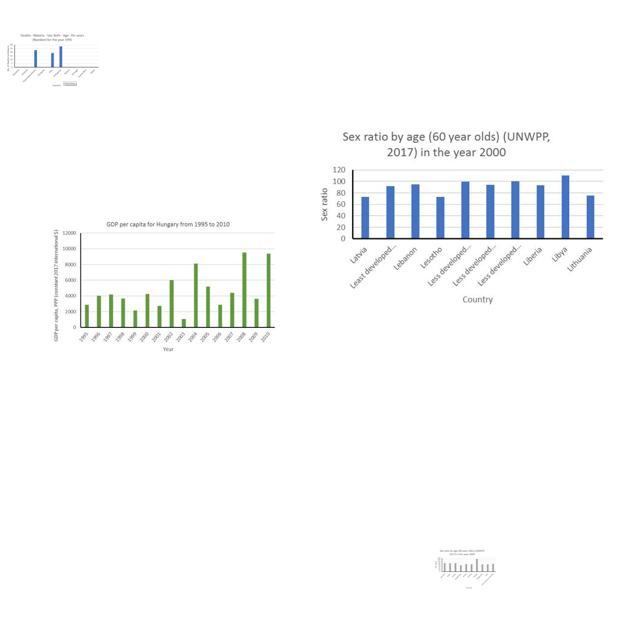Graph: (311, 124, 608, 313), (51, 217, 279, 355), (4, 32, 101, 89), (433, 548, 497, 590)
